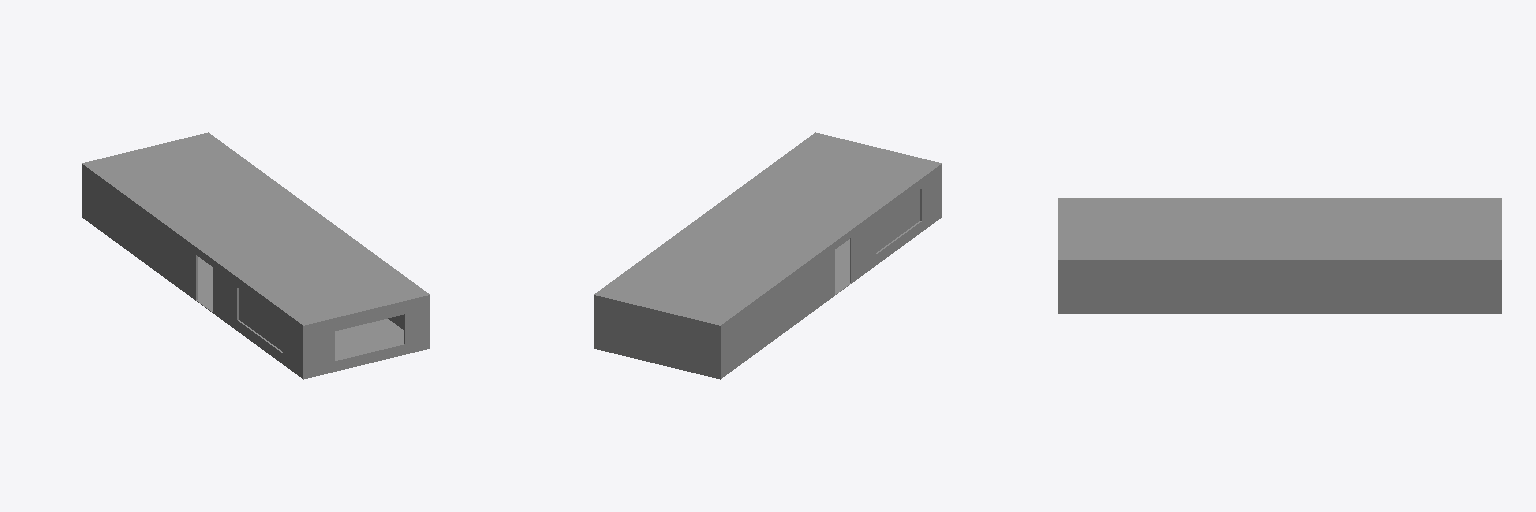
Rendered from walls.obj.
3 renders of one model, left to right at view 1: azimuth 30°, elevation 25°; view 2: azimuth 150°, elevation 25°; view 3: azimuth 270°, elevation 25°, orthographic.
Parts seen in each view (by area): view 1: roof, hall; view 2: roof, hall; view 3: roof, hall.
Boxes of the visible parts, x1=… form: roof: x1=82, y1=132, x2=429, y2=326; hall: x1=82, y1=165, x2=429, y2=379; roof: x1=594, y1=132, x2=941, y2=326; hall: x1=594, y1=165, x2=941, y2=379; roof: x1=1058, y1=198, x2=1501, y2=260; hall: x1=1058, y1=261, x2=1501, y2=313.
Bounding box in the file's own units: 6.22 × 2.52 × 18.85.